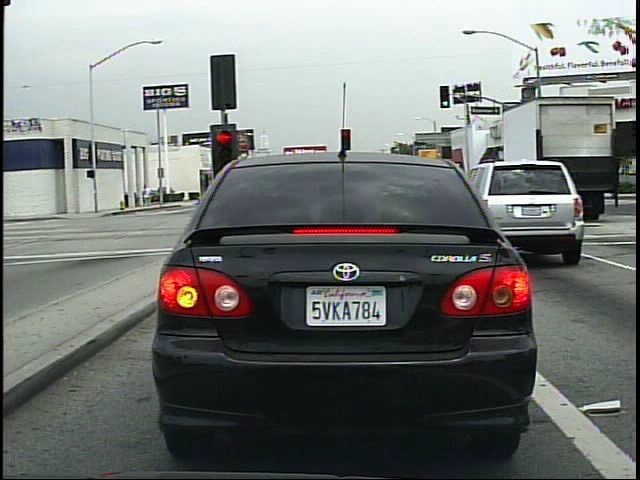person: (517, 169, 531, 202), (143, 182, 154, 210)
